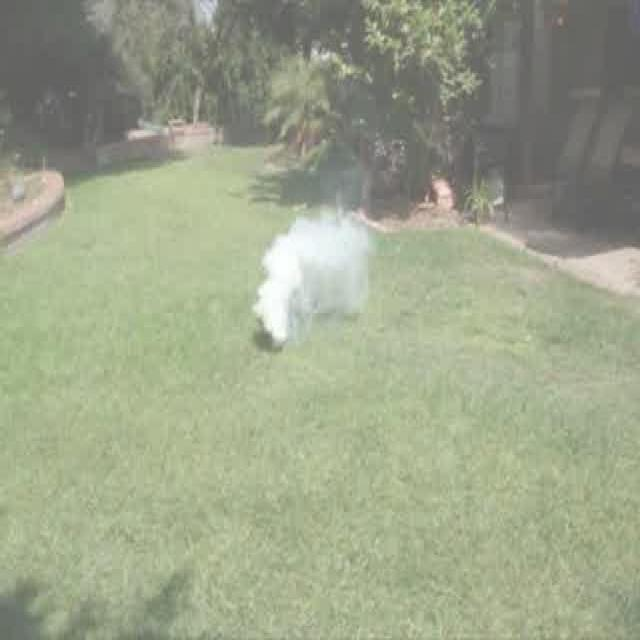Smoke: (252, 186, 380, 351)
